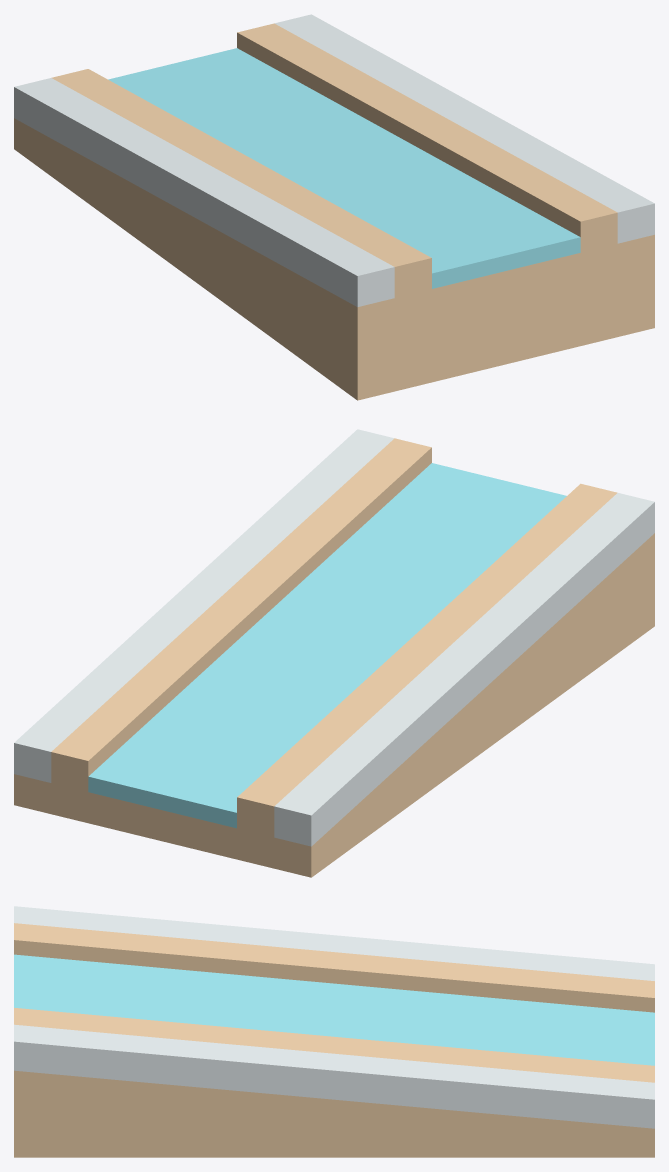
The model's file is snow_tile_riverSlopeLarge.glb.
The picture shows the model from 3 angles, top to bottom: view 1: azimuth 30°, elevation 25°; view 2: azimuth 150°, elevation 25°; view 3: azimuth 270°, elevation 25°; orthographic projection. The views are drawn at different scales.
Parts seen in each view (by area): view 1: snow_tile_riverSlopeLarge; view 2: snow_tile_riverSlopeLarge; view 3: snow_tile_riverSlopeLarge.
Boxes of the visible parts, bbox=[...] form: snow_tile_riverSlopeLarge: bbox=[14, 14, 654, 400]; snow_tile_riverSlopeLarge: bbox=[14, 429, 654, 877]; snow_tile_riverSlopeLarge: bbox=[14, 906, 654, 1157].
Bounding box in the file's own units: 1 × 0.4 × 2.
